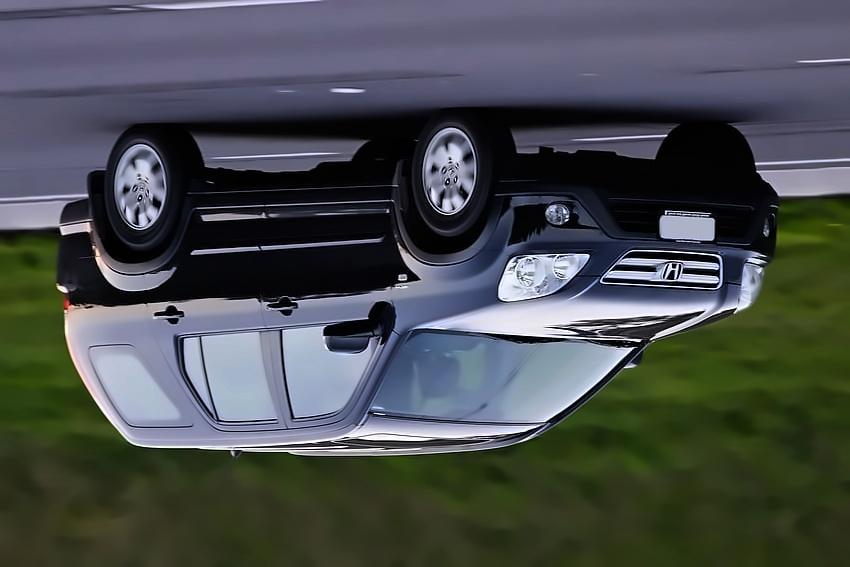Car hood: (400, 282, 750, 356)
Fender - -F-L-: (384, 179, 532, 334)
Fender - -R-L-: (58, 228, 227, 341)
Front bumper: (495, 165, 783, 270)
Headlight - -L-: (499, 249, 594, 312)
Headlight - -R-: (731, 260, 767, 314)
Passenger-s door - -F-L-: (250, 172, 412, 455)
Passenger-s door - -R-L-: (142, 168, 296, 462)
Rear bumper: (46, 190, 110, 285)
Side bumper - -L-: (168, 171, 402, 243)
Side mirror - -L-: (324, 296, 394, 360)
